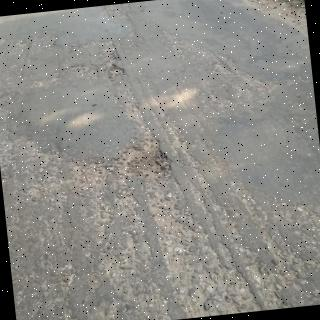pothole: (73, 138, 177, 189)
